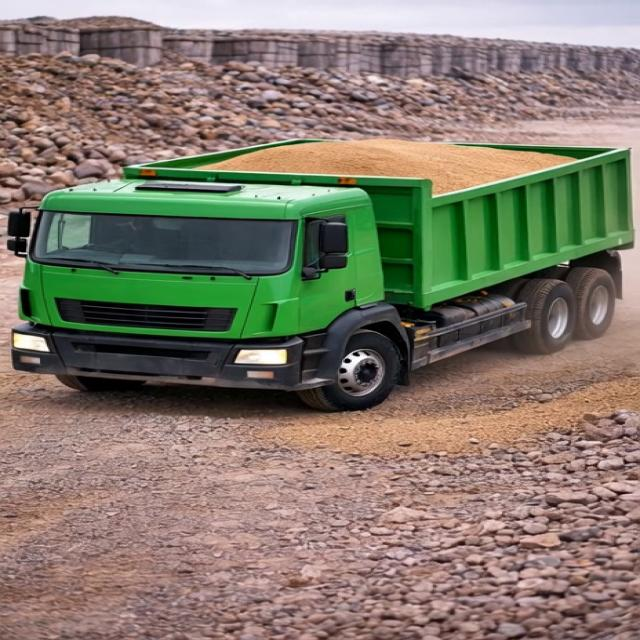Box: (130, 138, 630, 201)
Truck: (0, 108, 640, 413)
